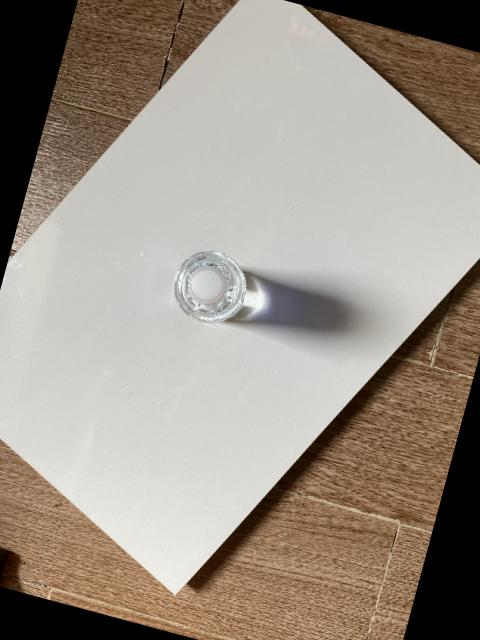aquafina: (172, 251, 246, 324)
